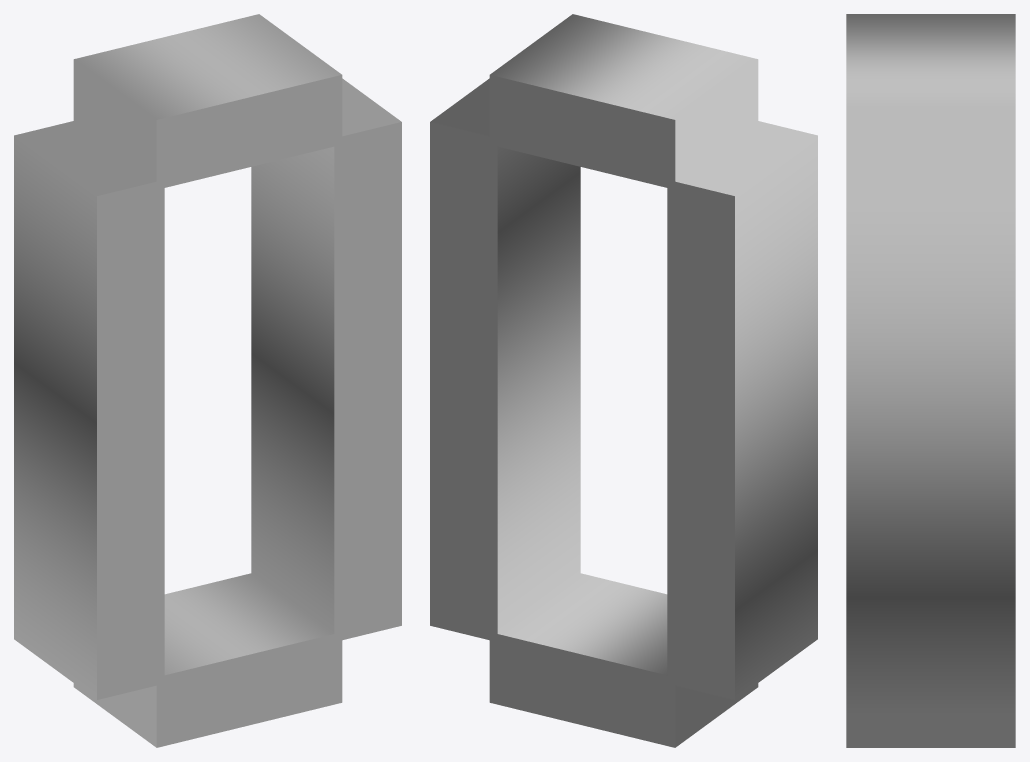
Rendered from number_0.fbx.
3 views of the same model, side by side, from view 1: azimuth 30°, elevation 25°; view 2: azimuth 150°, elevation 25°; view 3: azimuth 270°, elevation 25° (orthographic). The views are drawn at different scales.
Parts seen in each view (by area): view 1: 0; view 2: 0; view 3: 0.
Part boxes in pixels (x1,y1,x2,y2): 0: [14, 14, 401, 747]; 0: [430, 14, 817, 747]; 0: [846, 14, 1015, 747].
Size of the model in its own units: 84.8 by 167 by 40.
